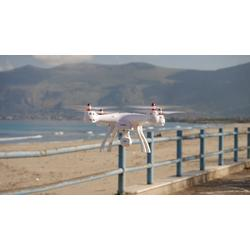drone: (66, 102, 185, 155)
